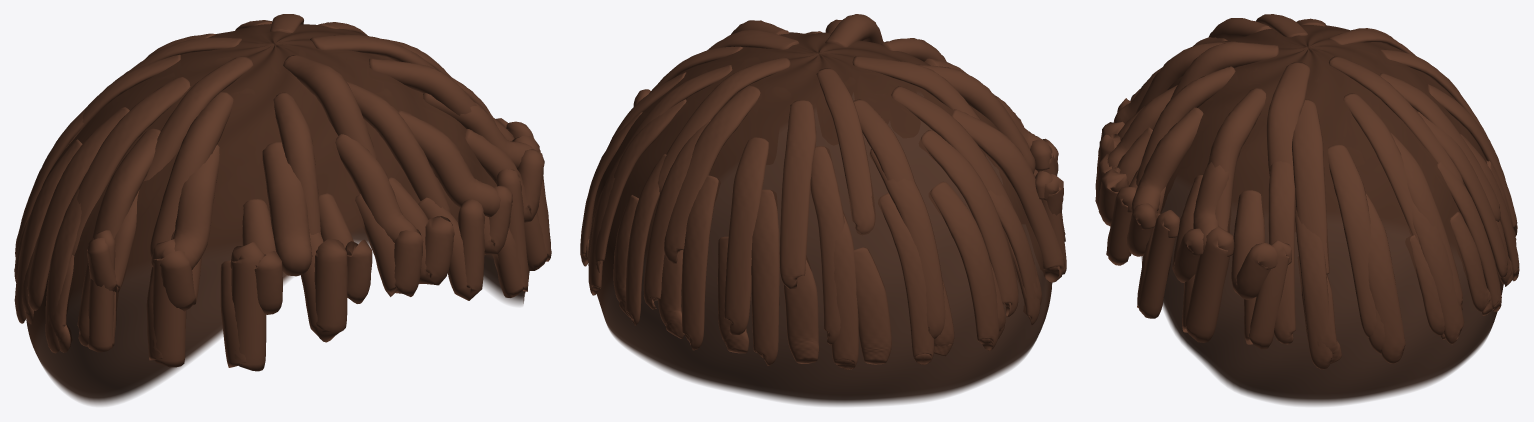
Rendered from Masculine-locs-tank-pashmina250-hair.glb.
3 renders of one model, left to right at view 1: azimuth 30°, elevation 25°; view 2: azimuth 150°, elevation 25°; view 3: azimuth 270°, elevation 25°, orthographic. The views are drawn at different scales.
Visible parts, largest first — view 1: 226 hair / Hair / loc fiber235.001, 226 hair / Hair / neutral coverage235.002; view 2: 226 hair / Hair / loc fiber235.001, 226 hair / Hair / neutral coverage235.002; view 3: 226 hair / Hair / loc fiber235.001, 226 hair / Hair / neutral coverage235.002.
Part boxes in pixels (x1,y1,x2,y2): 226 hair / Hair / loc fiber235.001: (14, 14, 551, 371); 226 hair / Hair / neutral coverage235.002: (26, 24, 529, 405); 226 hair / Hair / loc fiber235.001: (580, 14, 1066, 369); 226 hair / Hair / neutral coverage235.002: (591, 32, 1052, 405); 226 hair / Hair / loc fiber235.001: (1095, 14, 1519, 369); 226 hair / Hair / neutral coverage235.002: (1141, 25, 1503, 405).
Bounding box in the file's own units: 1.04 × 0.6562 × 0.9167.
